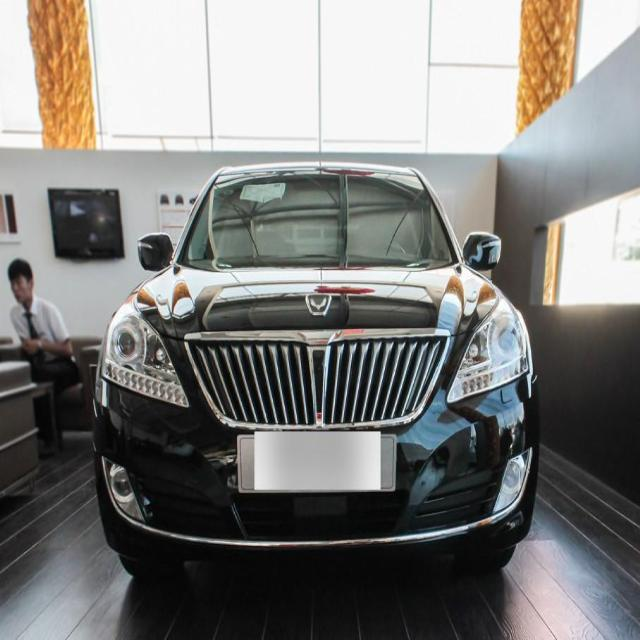front_bumper: (95, 377, 540, 558)
front_glass: (178, 170, 462, 271)
front_left_side_light: (443, 294, 532, 406)
front_left_side_mirror: (461, 230, 503, 271)
front_right_side_light: (98, 292, 192, 411)
front_right_side_mirror: (138, 231, 174, 273)
